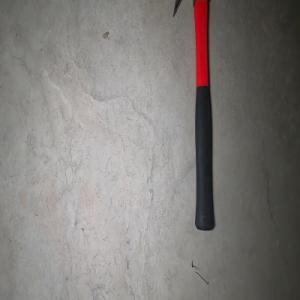Hammer: (172, 0, 231, 232)
